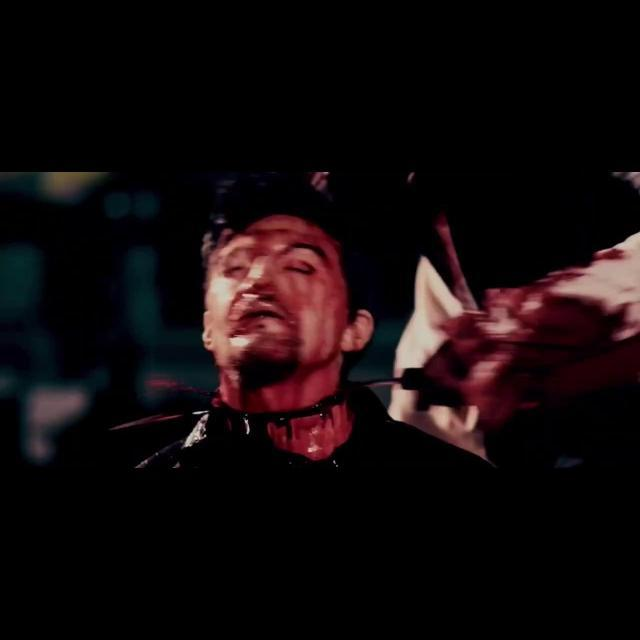blood: (422, 268, 640, 422), (148, 378, 352, 460), (106, 413, 182, 430), (595, 244, 626, 262)
